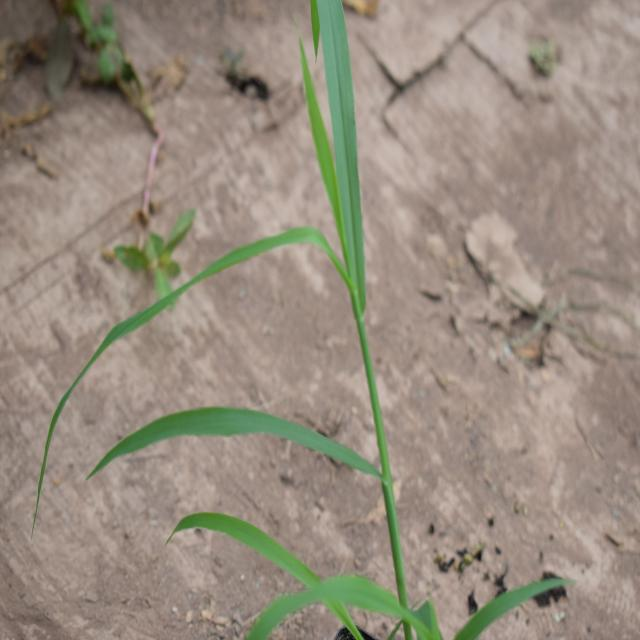crabgrass: (48, 0, 419, 572)
